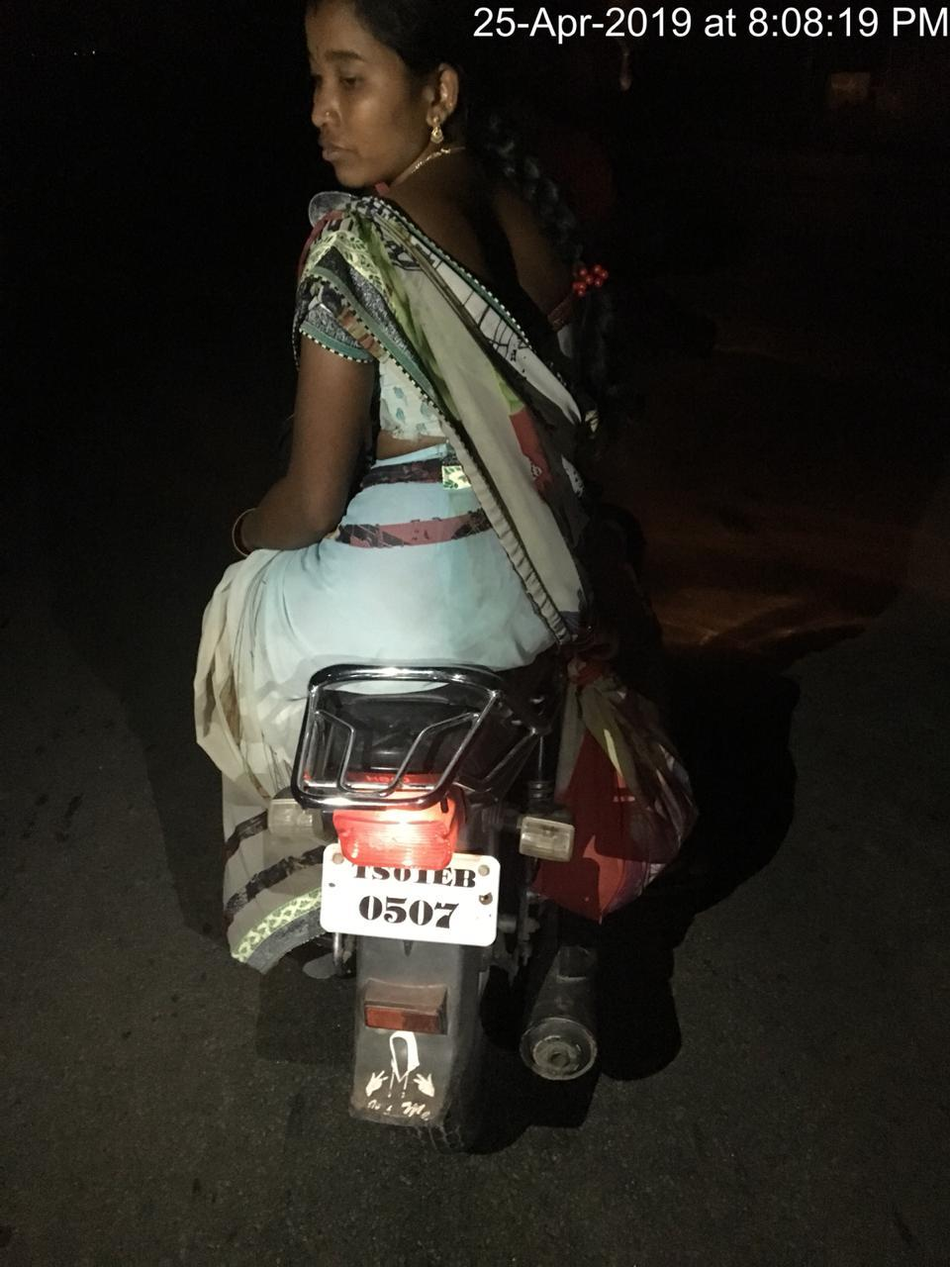plate: (304, 819, 530, 966)
